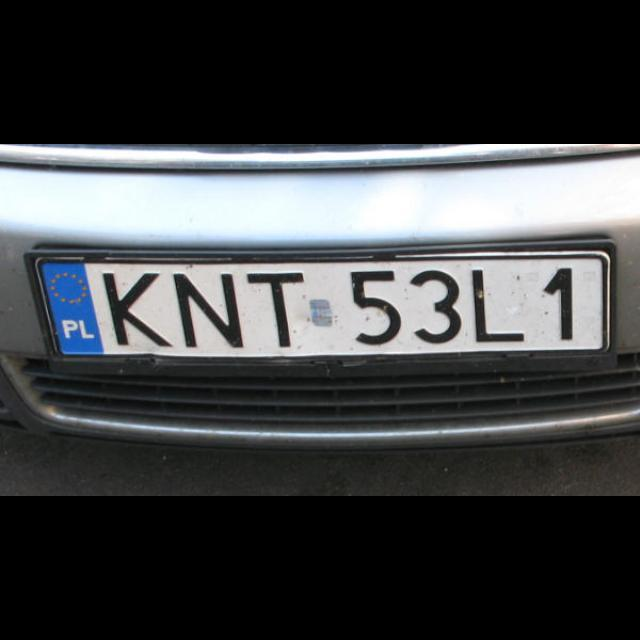license-plates: (33, 249, 612, 359)
